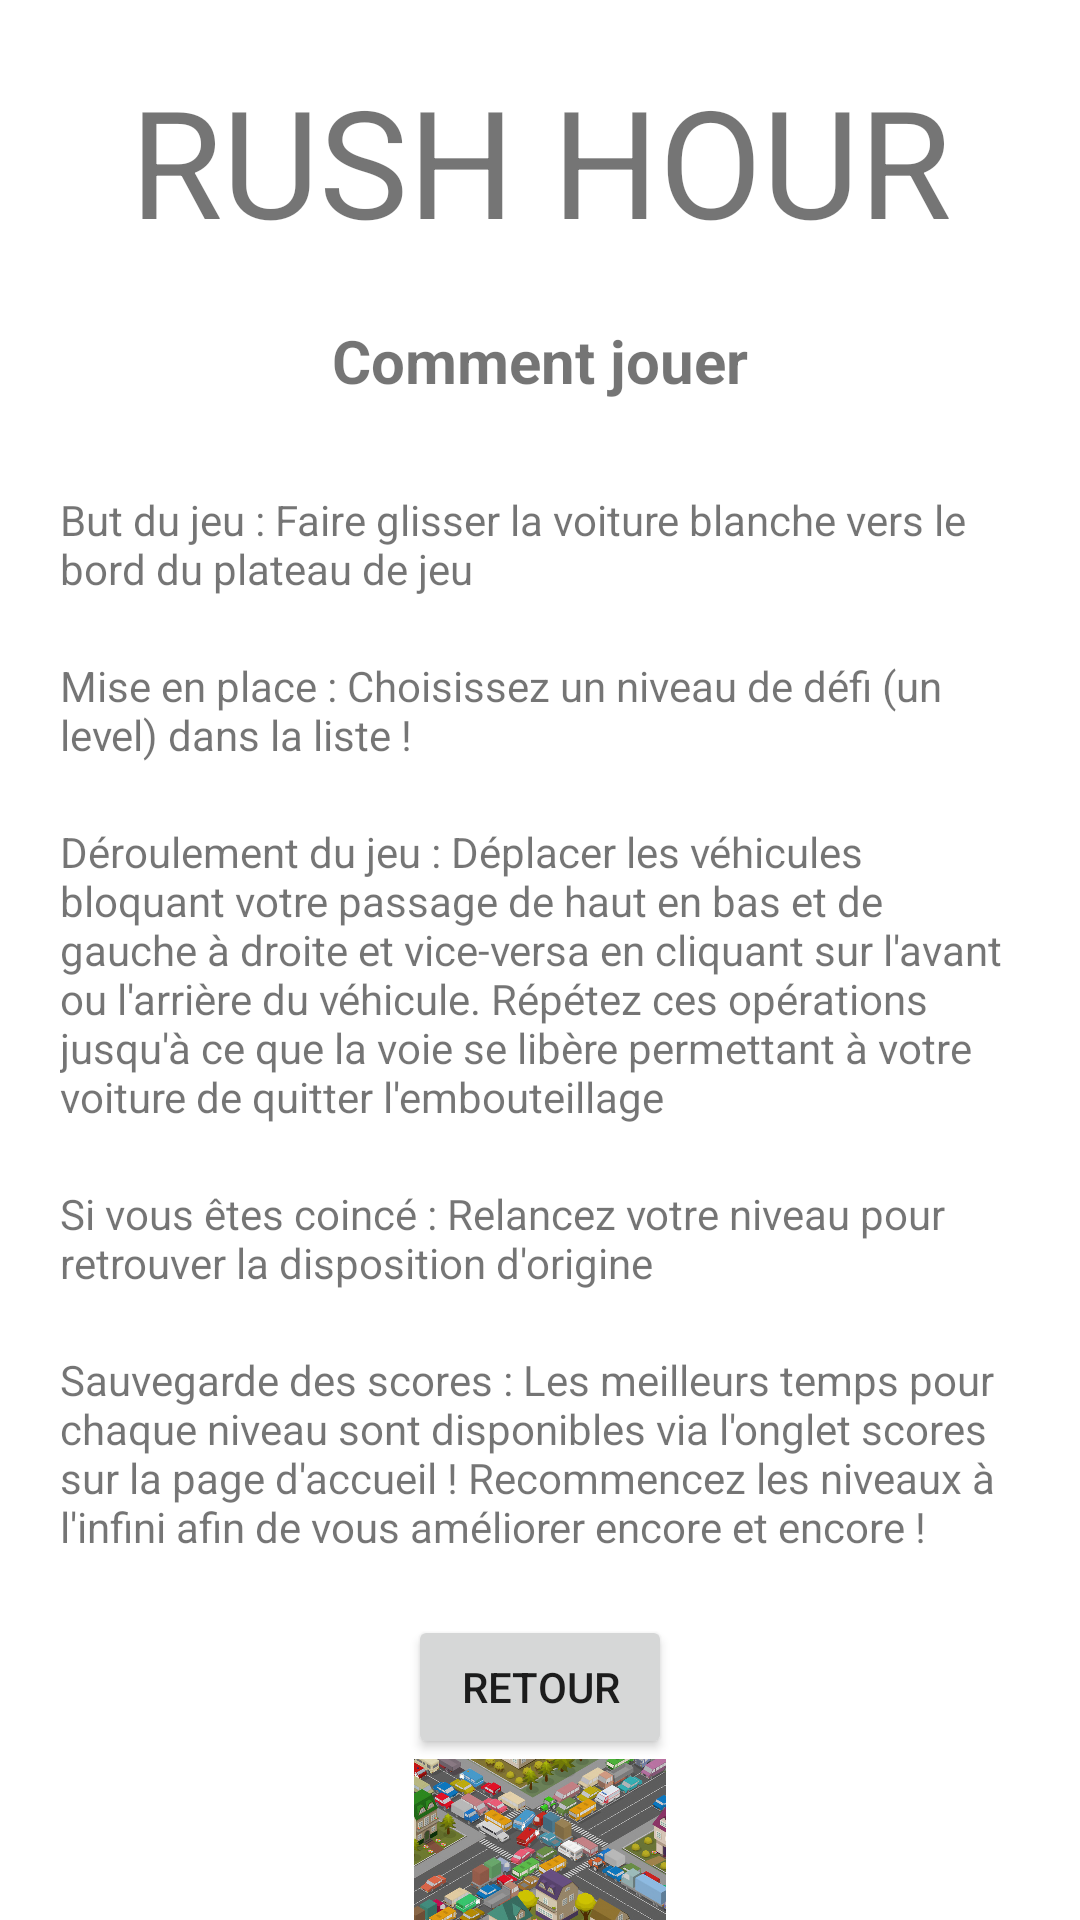

Icons on this 1080×1920 Android screen, each with its box as (x1, y1, x2, y2):
fond embouteillage: (414, 1759, 666, 1920)
